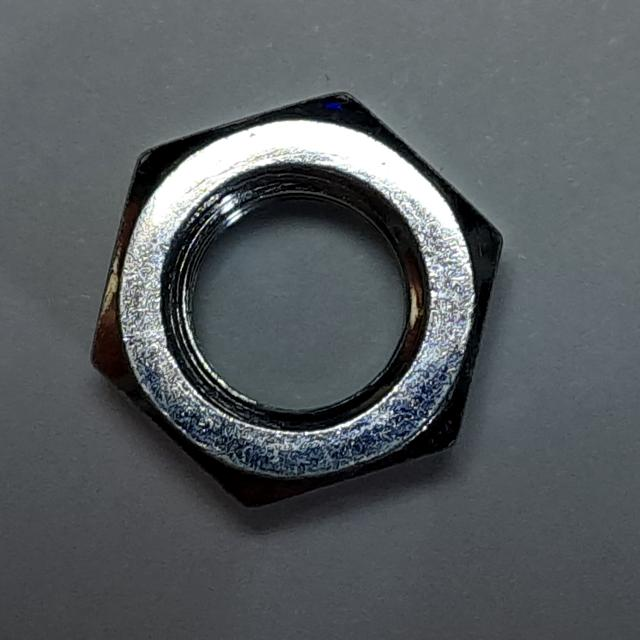Excellent: (70, 64, 522, 528)
